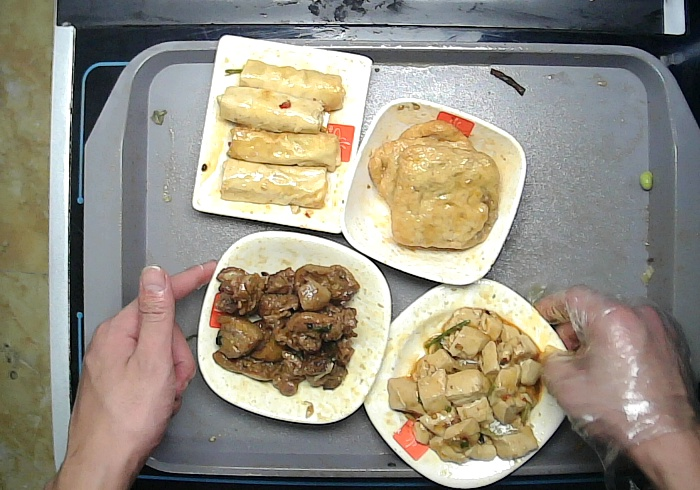SHKJ-Bai_Se_Cai_Die: (193, 227, 393, 427)
SHKJ-Bai_Se_Si_Fang_Cai_Die: (362, 275, 572, 490)
SHKJ-Bai_Se_Xiao_Fang_Die: (335, 95, 528, 286)
SHKJ-Si_Fang_Min: (190, 32, 372, 235)
